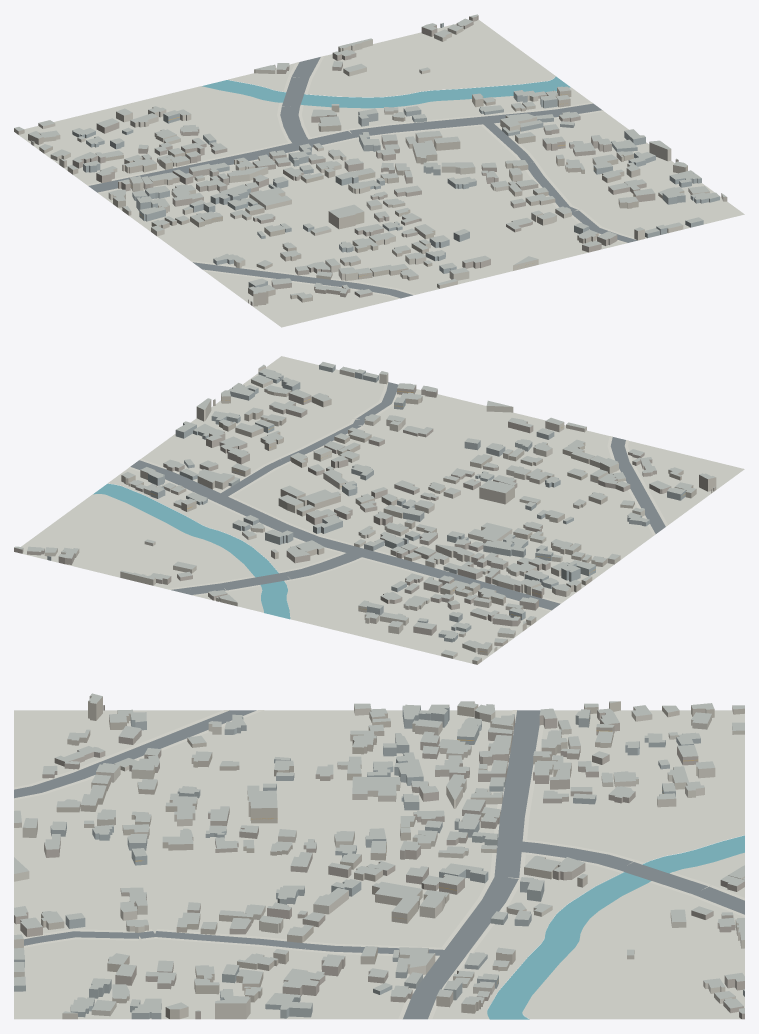
3 renders of one model, top to bottom at view 1: azimuth 30°, elevation 25°; view 2: azimuth 150°, elevation 25°; view 3: azimuth 270°, elevation 25°, orthographic. The views are drawn at different scales.
Visible parts, largest first — view 1: city; view 2: city; view 3: city.
Boxes of the visible parts, x1,y1,x2,y2 form: city: (14,14,744,327); city: (14,356,744,664); city: (14,693,744,1019).
Size of the model in its own units: 500 by 13.18 by 500.
